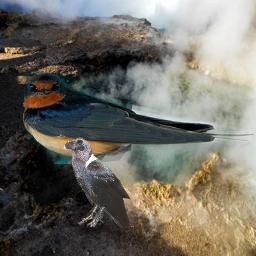Crow: (63, 137, 132, 227)
Swallow: (16, 68, 255, 164)
